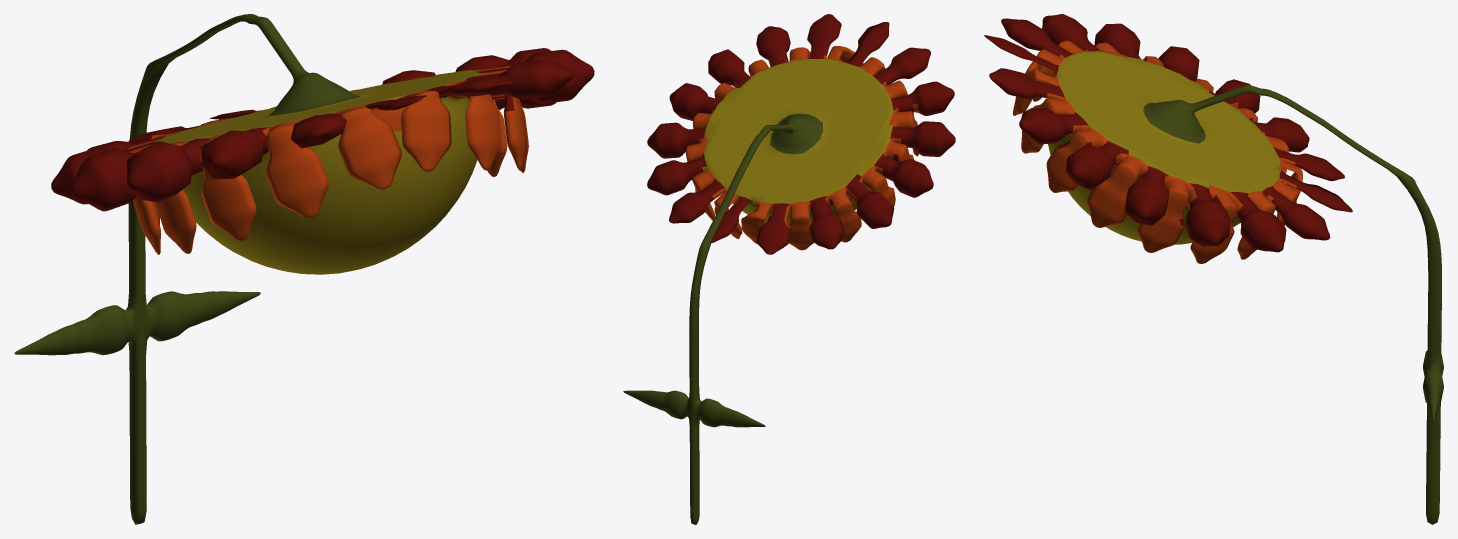
File: Flower.FBX
3 views of the same model, side by side, from view 1: azimuth 30°, elevation 25°; view 2: azimuth 150°, elevation 25°; view 3: azimuth 270°, elevation 25° (orthographic). The views are drawn at different scales.
Visible parts, largest first — view 1: Flower; view 2: Flower; view 3: Flower.
Part boxes in pixels (box(x1,y1,x2,y2)): Flower: box(14, 14, 594, 524); Flower: box(623, 14, 955, 524); Flower: box(984, 14, 1443, 524).
Bounding box in the file's own units: 1.3 × 1.7 × 1.48.
